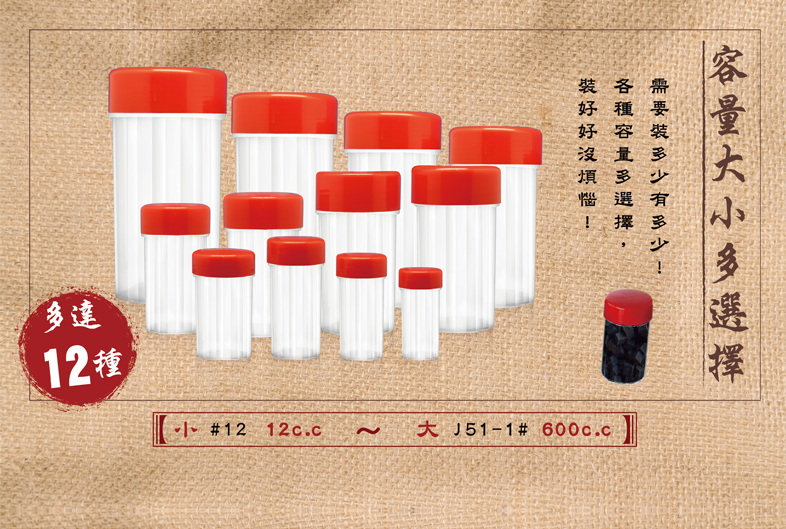medicinejar: (101, 57, 227, 299), (227, 82, 341, 328), (329, 115, 455, 319), (303, 164, 411, 342), (410, 154, 510, 344), (448, 123, 545, 311), (214, 178, 313, 348), (136, 198, 225, 342), (191, 244, 266, 365), (591, 276, 666, 384), (261, 233, 322, 361), (337, 252, 394, 359), (392, 262, 449, 364)
